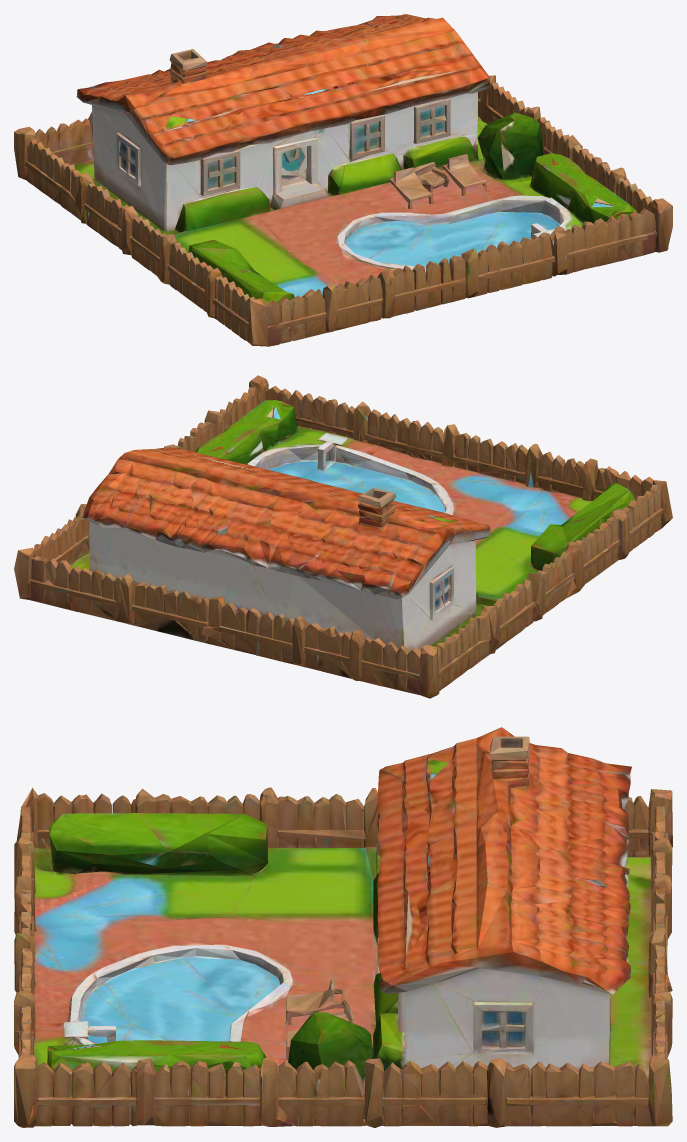
Rendered from town_house_pool.glb.
The picture shows the model from 3 angles, top to bottom: view 1: azimuth 30°, elevation 25°; view 2: azimuth 150°, elevation 25°; view 3: azimuth 270°, elevation 25°; orthographic projection. The views are drawn at different scales.
Parts seen in each view (by area): view 1: normalize; view 2: normalize; view 3: normalize.
Boxes of the visible parts, x1,y1,x2,y2 form: normalize: (14, 14, 672, 346); normalize: (14, 375, 672, 698); normalize: (14, 727, 672, 1127).
Size of the model in its own units: 1 by 0.3108 by 0.9993.
1 material, 1 textured.
